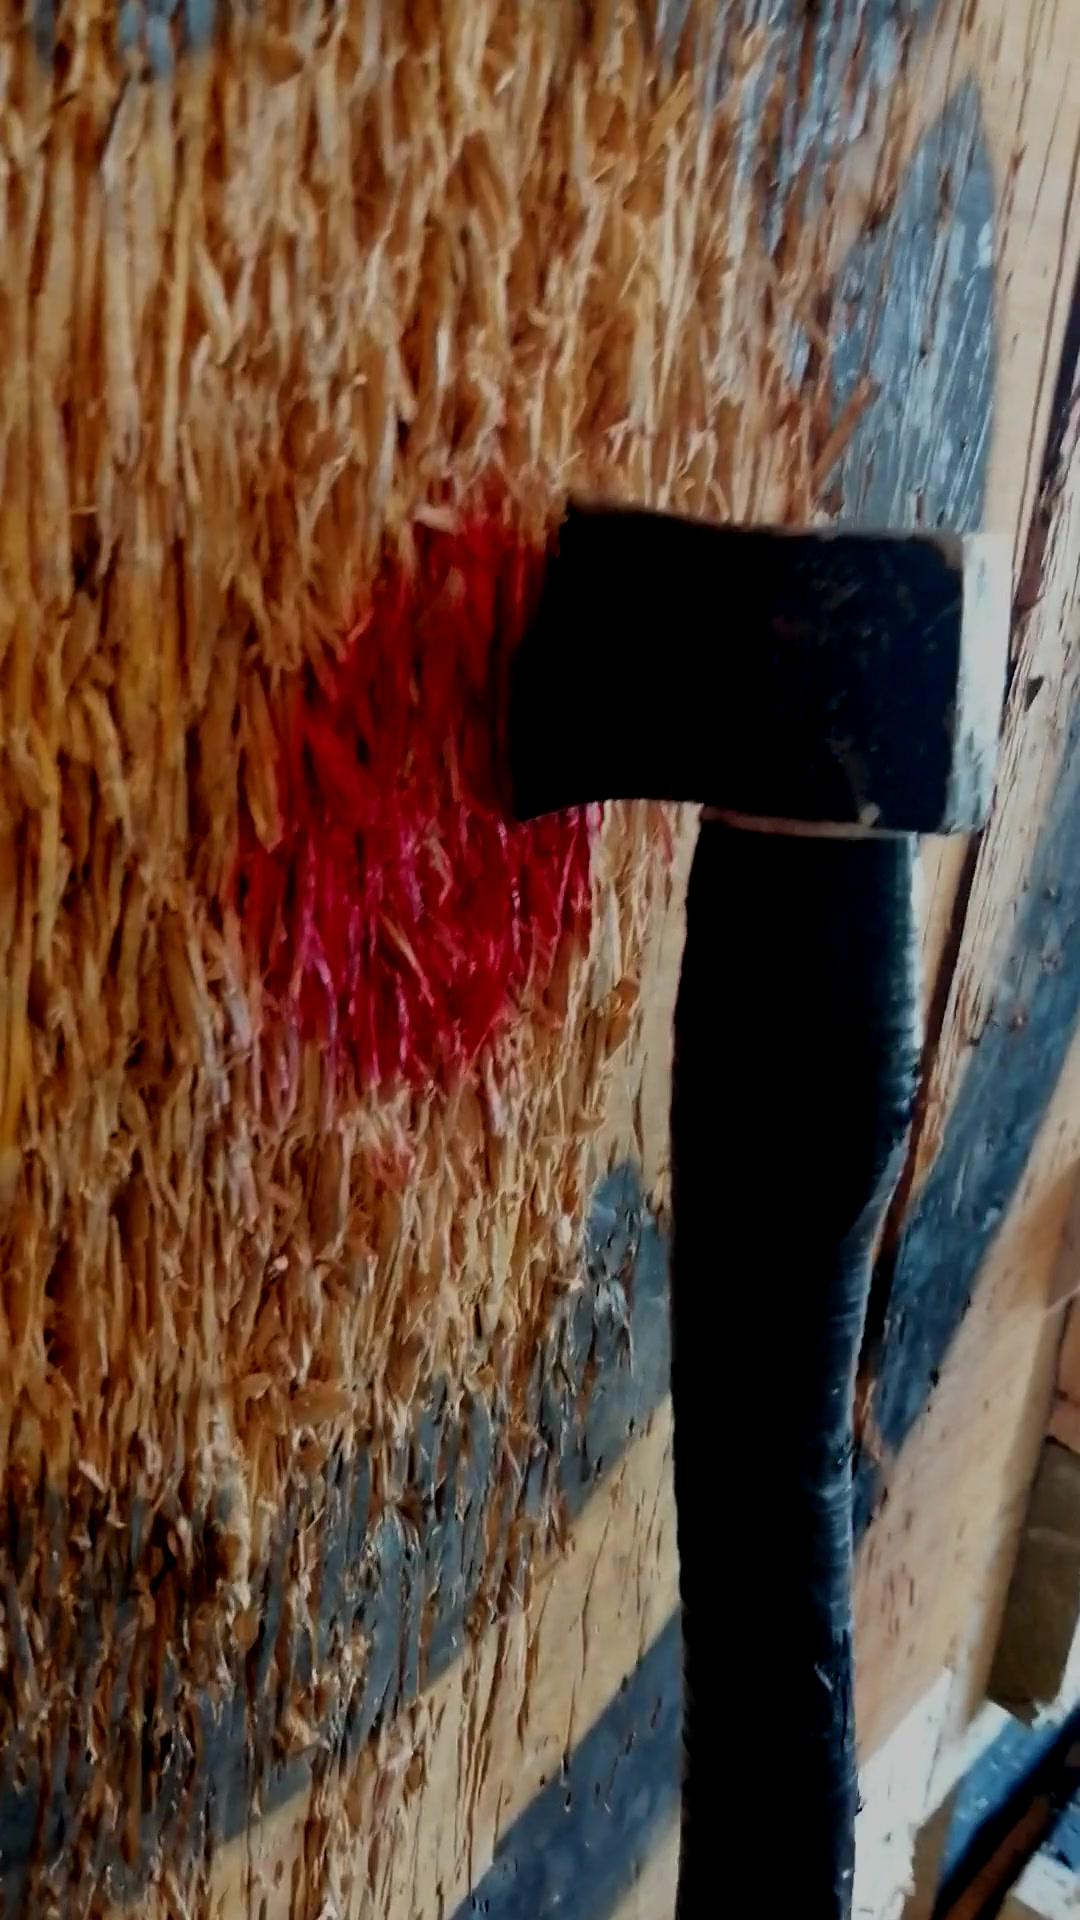Hand Axe: (513, 485, 1004, 862)
